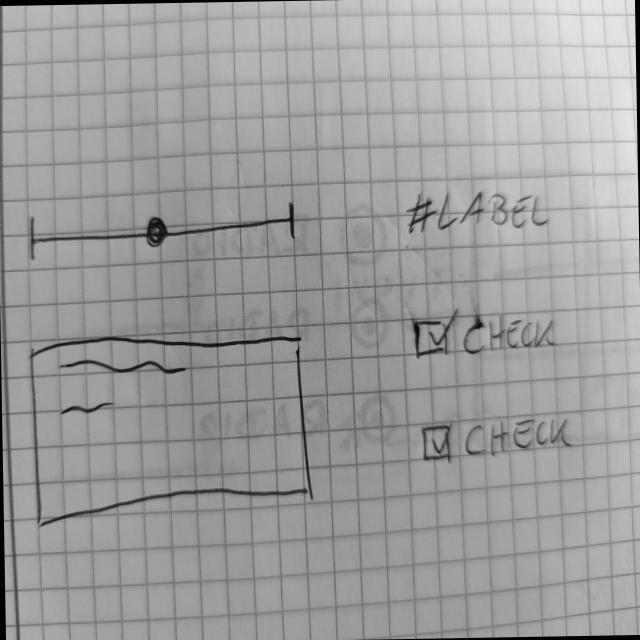checkbox: (410, 305, 556, 360), (418, 414, 574, 464)
label: (403, 183, 551, 239)
slider: (23, 198, 299, 262)
textarea: (26, 328, 318, 528)
